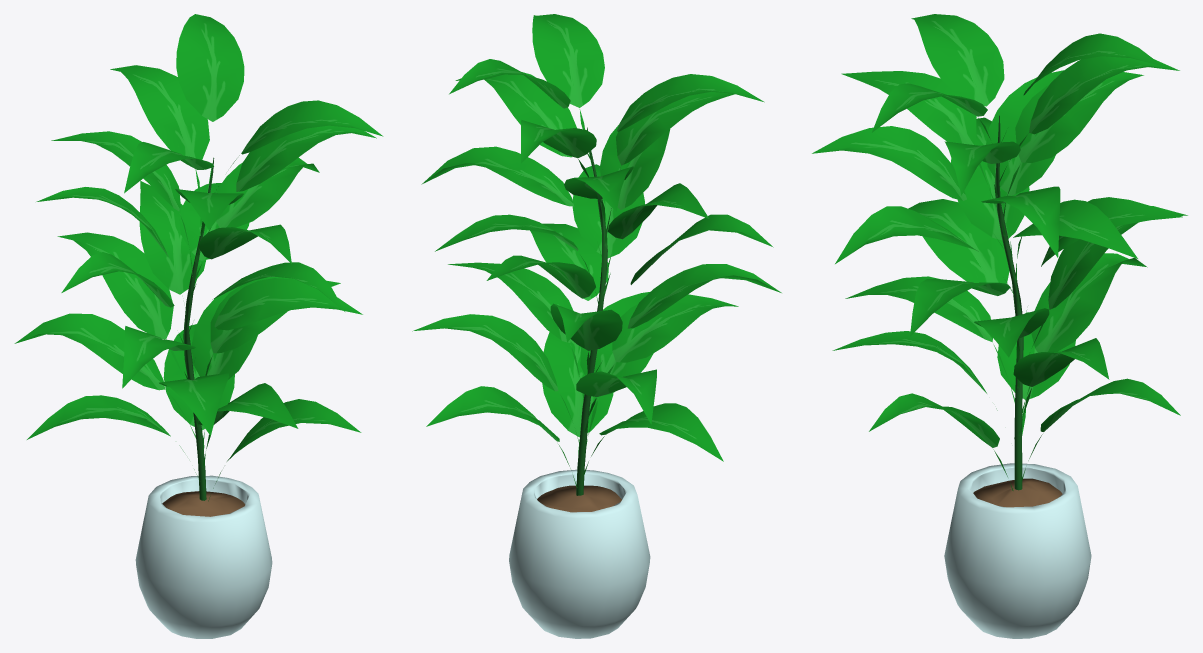
The model's file is Plant.glb.
3 views of the same model, side by side, from view 1: azimuth 30°, elevation 25°; view 2: azimuth 150°, elevation 25°; view 3: azimuth 270°, elevation 25° (orthographic). The views are drawn at different scales.
Visible parts, largest first — view 1: Leaf 2.002, Pot.002, Soil.002, Stem 2.002; view 2: Leaf 2.002, Pot.002, Soil.002, Stem 2.002; view 3: Leaf 2.002, Pot.002, Stem 2.002, Soil.002.
Boxes of the visible parts, box(x1,y1,x2,y2) form: Leaf 2.002: box(14, 14, 383, 501); Pot.002: box(135, 475, 272, 638); Soil.002: box(162, 491, 245, 516); Stem 2.002: box(183, 157, 214, 500); Leaf 2.002: box(412, 14, 781, 487); Pot.002: box(509, 469, 650, 638); Soil.002: box(537, 485, 621, 512); Stem 2.002: box(576, 127, 607, 495); Leaf 2.002: box(812, 14, 1187, 490); Pot.002: box(944, 463, 1091, 638); Stem 2.002: box(995, 115, 1023, 490); Soil.002: box(973, 478, 1062, 507).
Size of the model in its own units: 0.5471 by 0.9301 by 0.5324.
Materials: 3 (3 with a texture image).
